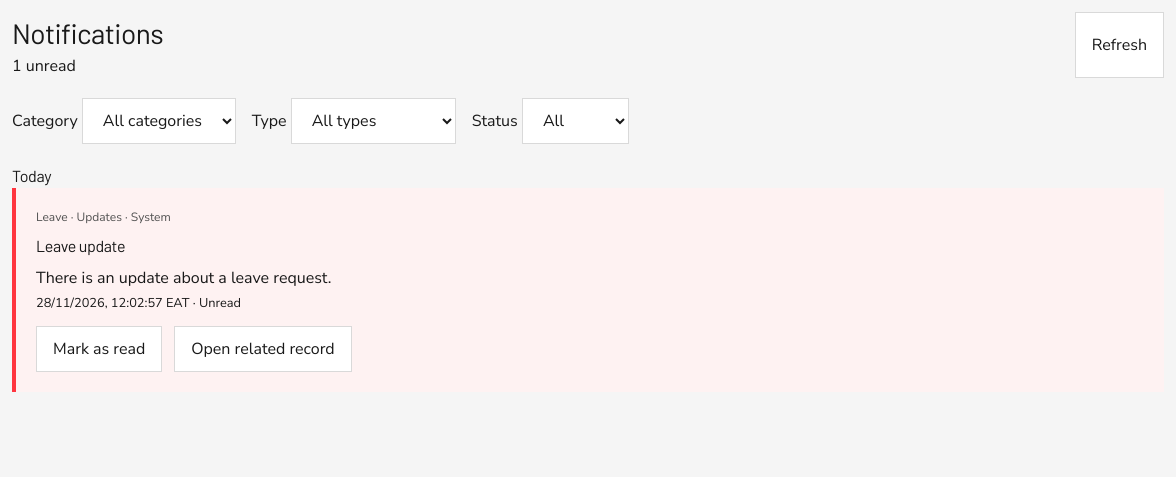
Test: failed marking read remains unread and displays a useful error
Click the button "Mark as read". click: (99, 349)
box: [36,326,162,372]
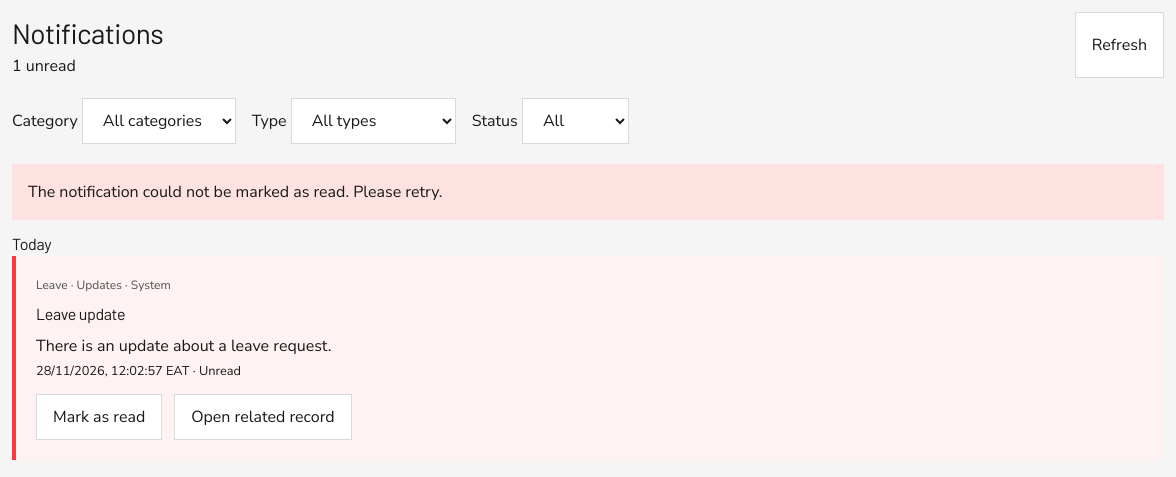
Expected: the text "1 unread" is shown, [12,55,76,77]
Expected: the message "The notification could not be marked as read. Please retry." is shown, [12,164,1164,220]
